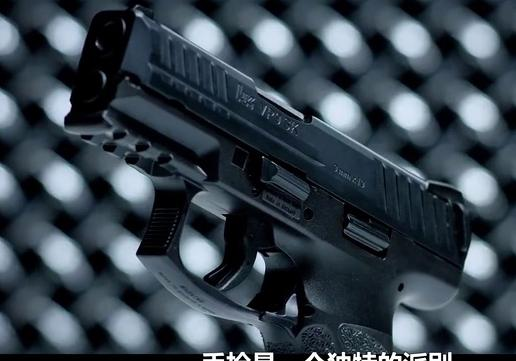gun: (1, 1, 516, 361)
